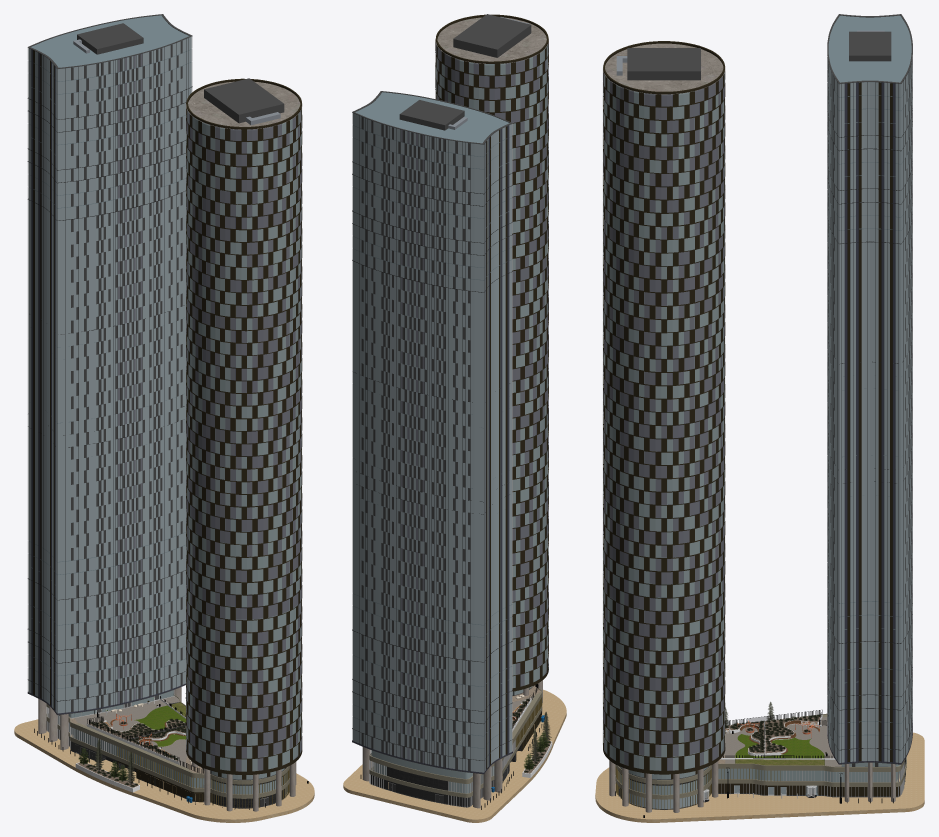
Rendered from blade-three60.glb.
3 views of the same model, side by side, from view 1: azimuth 30°, elevation 25°; view 2: azimuth 150°, elevation 25°; view 3: azimuth 270°, elevation 25° (orthographic). The views are drawn at different scales.
Visible parts, largest first — view 1: Cube.001, Cube, Cylinder, Cylinder.023, Cube.002, Plane, Cube.123, Cylinder.019, Cube.009, Cylinder.018, Cylinder.004, Cube.007 (+1 smaller); view 2: Cube.001, Cube, Cylinder, Cylinder.023, Cube.002, Plane, Cube.123, Cube.009, Cylinder.004, Cube.007; view 3: Cylinder, Cube.001, Cube, Cylinder.023, Cube.002, Plane, Cube.123, Cylinder.019, Cylinder.018, Cube.009, Cube.007, Cylinder.004.
Boxes of the visible parts, x1,y1,x2,y2 form: Cube.001: (27, 14, 192, 715); Cube: (28, 15, 191, 713); Cylinder: (186, 78, 302, 774); Cylinder.023: (188, 112, 299, 771); Cube.002: (46, 690, 211, 802); Plane: (14, 719, 314, 822); Cube.123: (204, 78, 284, 125); Cylinder.019: (201, 766, 289, 808); Cube.009: (73, 23, 143, 54); Cylinder.018: (204, 762, 296, 811); Cylinder.004: (38, 687, 181, 749); Cube.007: (47, 707, 211, 787); Cube.001: (352, 91, 512, 774); Cube: (353, 92, 511, 773); Cylinder: (435, 14, 548, 691); Cylinder.023: (438, 47, 546, 687); Cube.002: (369, 686, 542, 807); Plane: (343, 689, 566, 822); Cube.123: (453, 14, 531, 57); Cube.009: (399, 100, 467, 130); Cylinder.004: (362, 747, 502, 808); Cube.007: (369, 697, 542, 793); Cylinder: (602, 41, 725, 774); Cube.001: (827, 14, 912, 764); Cube: (827, 15, 912, 763); Cylinder.023: (605, 77, 722, 770); Cube.002: (711, 713, 906, 797); Plane: (595, 732, 924, 822); Cube.123: (616, 48, 700, 80); Cylinder.019: (615, 765, 711, 809); Cylinder.018: (609, 760, 718, 812); Cube.009: (849, 30, 891, 61); Cube.007: (721, 762, 904, 782); Cylinder.004: (844, 762, 895, 802).
Size of what is drawn, in the model's own units: 42.3 by 165 by 67.13.
67 materials, 24 textured.
